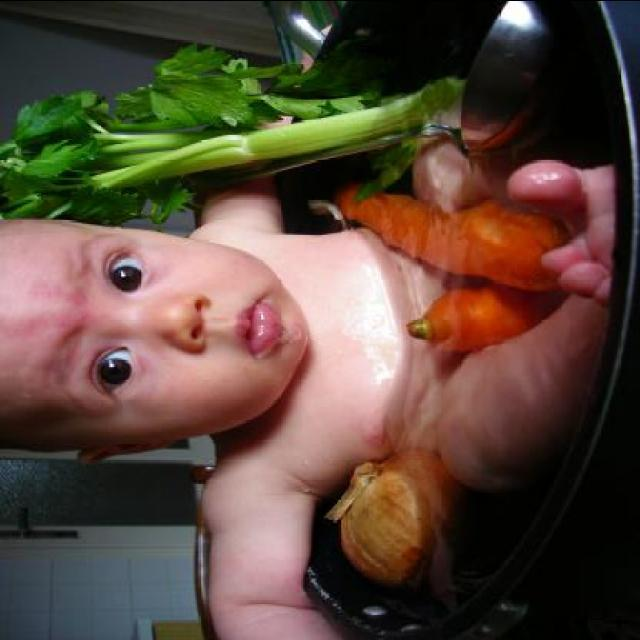Carrot: (320, 180, 609, 312)
